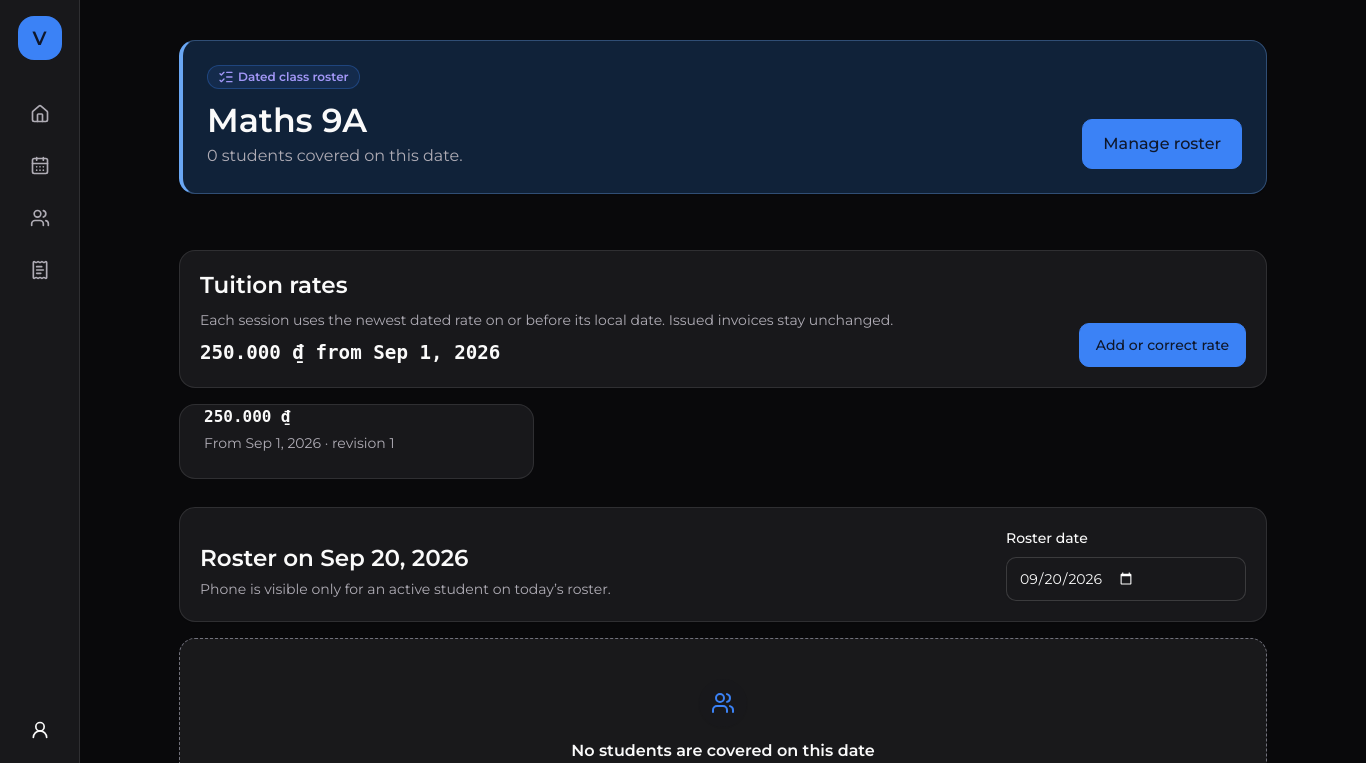
Test case: ClassDetailPage tuition rates › keeps the confirmed command values visible when the history refresh fails
The image size is (1366, 763).
Click the button "Add or correct rate". click: (1162, 345)
box: [1079,323,1246,367]
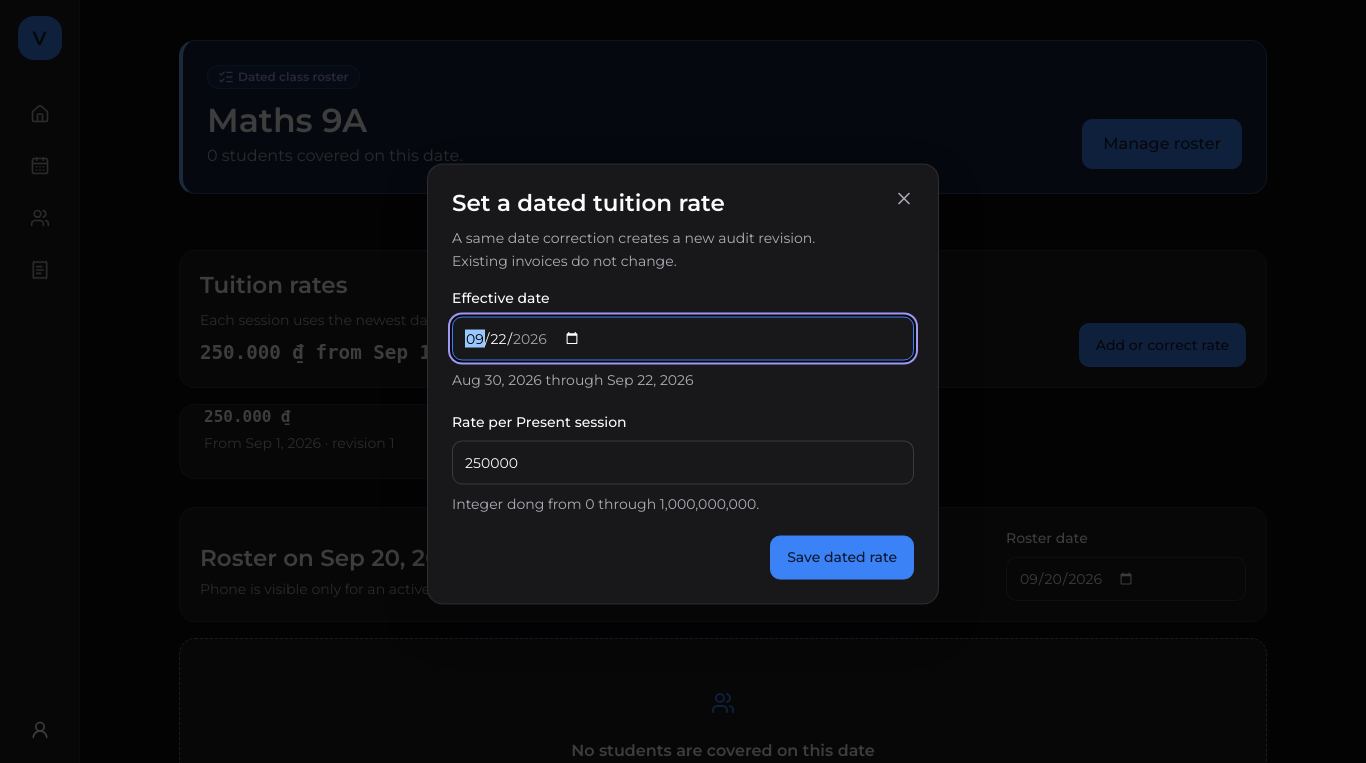
Type "2026-09-15" into the date field labelled "Effective date". click: (683, 339)
box: [452,317,914,361]
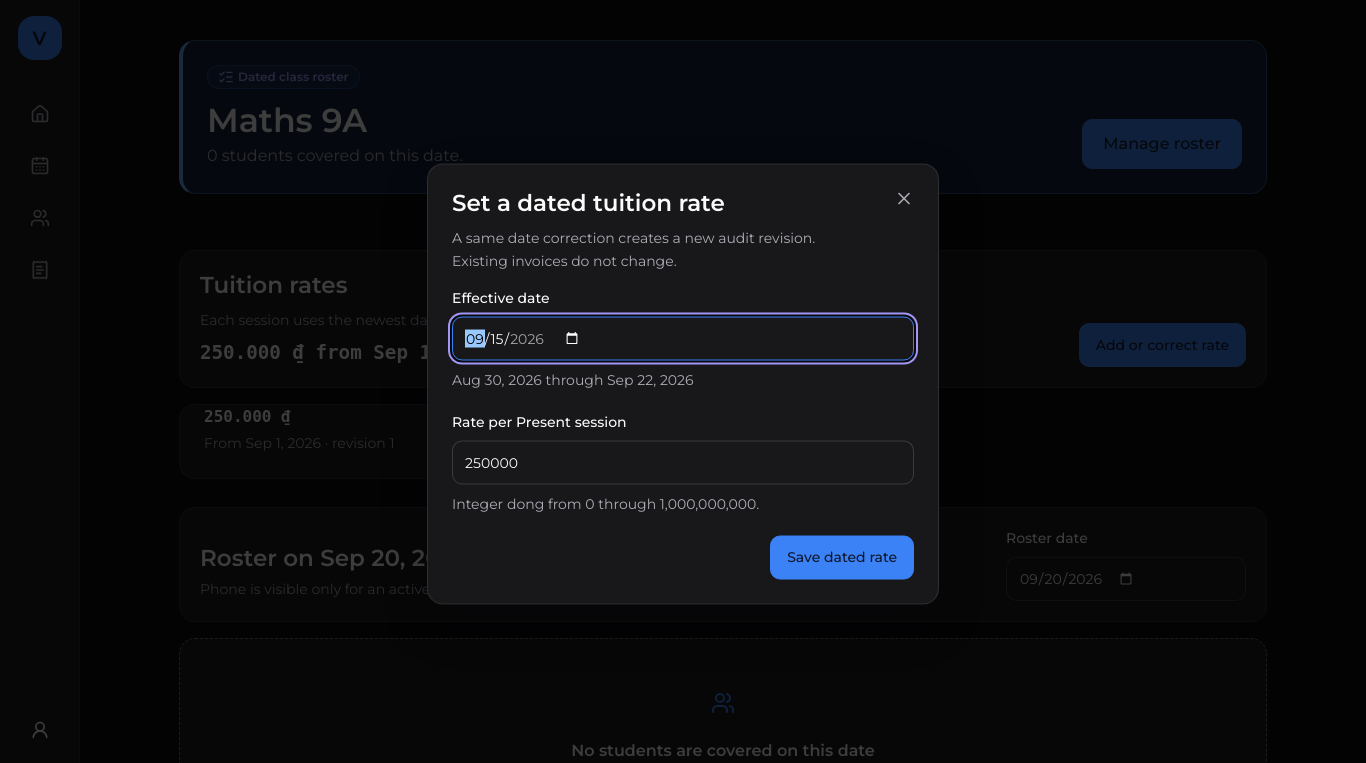
Replace the text in the number field labelled "Rate per Present session" with "300000". click: (683, 463)
box: [452,441,914,485]
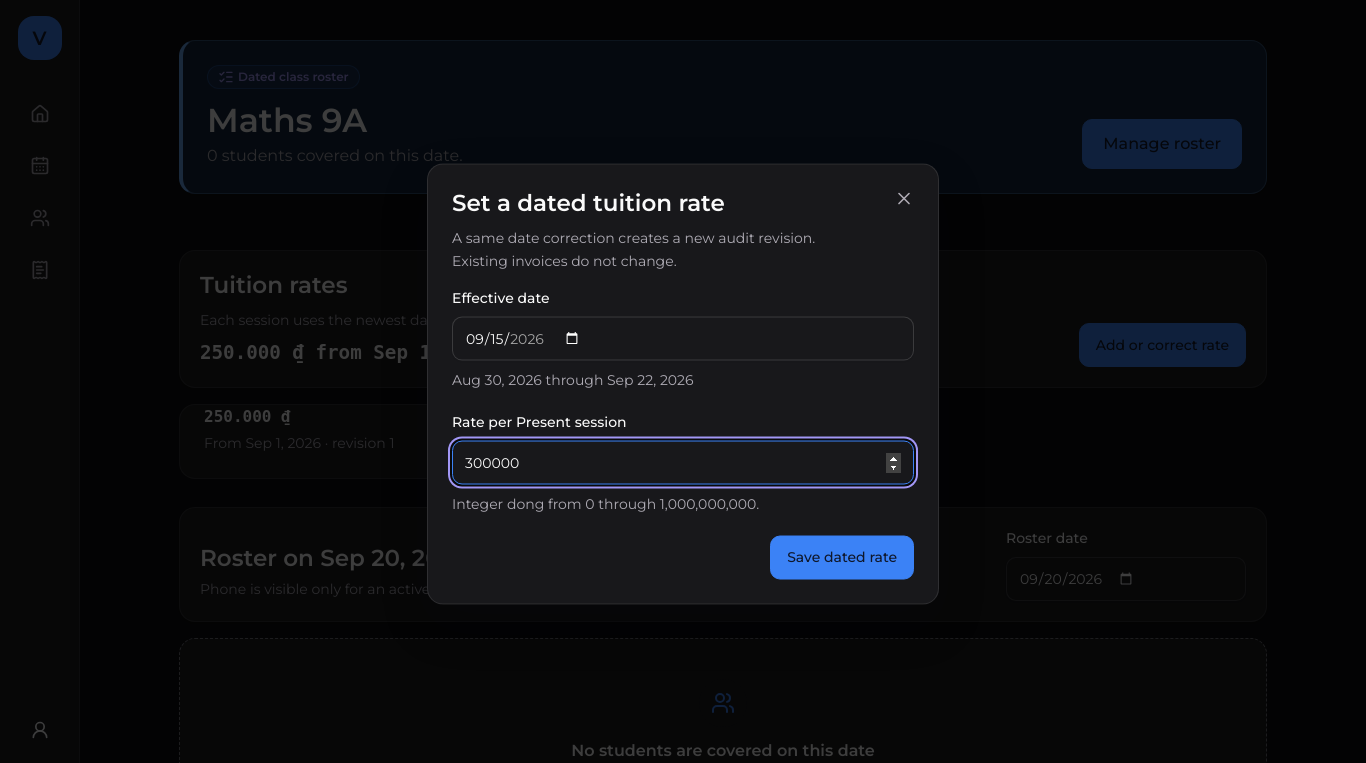
Click the button "Save dated rate". click: (842, 558)
box: [770,536,914,580]
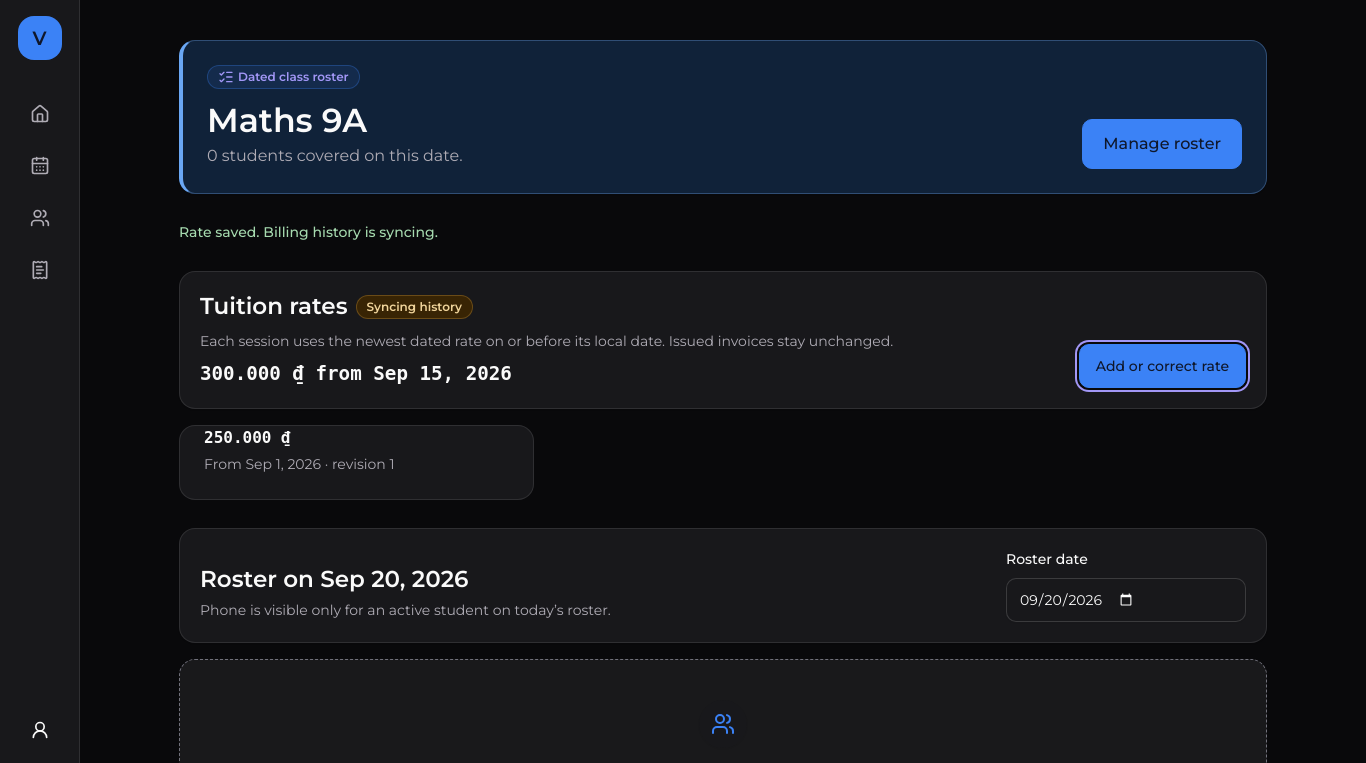
expect the text "Rate saved. Billing history is syncing." is shown: met, box [179,224,438,242]
